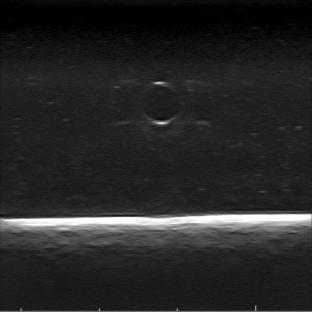vessel: (135, 79, 185, 126)
